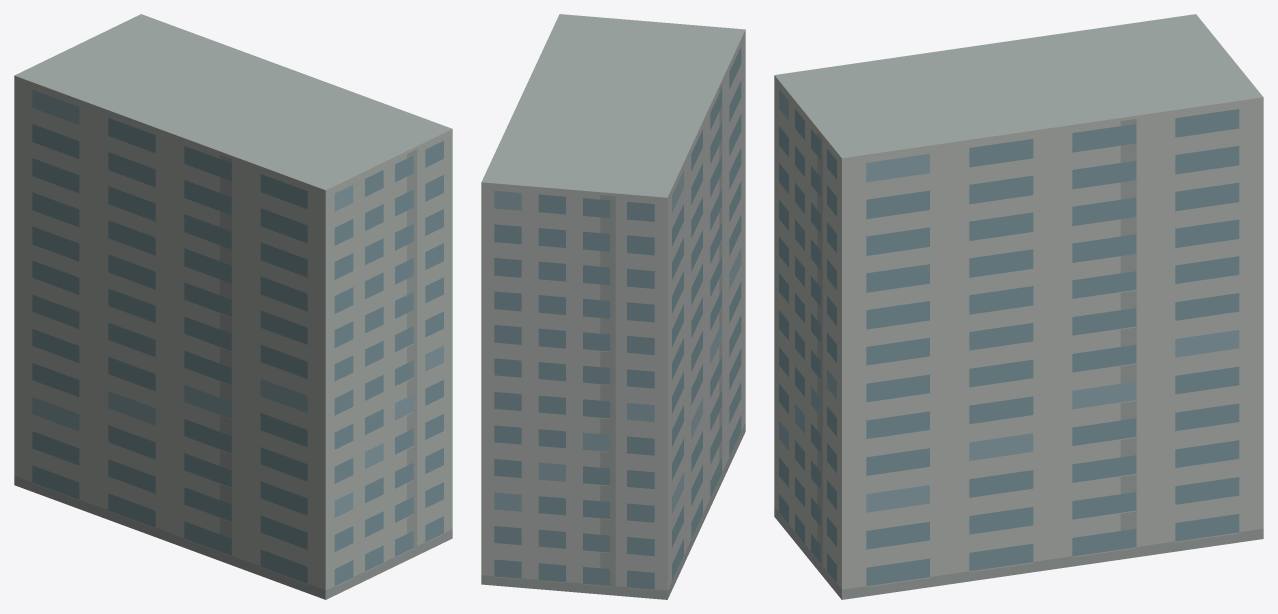
File: residential-8871932c-6e0a-4a34-b499-48d6ceedca8d.glb
3 renders of one model, left to right at view 1: azimuth 30°, elevation 25°; view 2: azimuth 150°, elevation 25°; view 3: azimuth 270°, elevation 25°, orthographic. The views are drawn at different scales.
Parts seen in each view (by area): view 1: residential-8871932c-6e0a-4a34-b499-48d6ceedca8d.tmp; view 2: residential-8871932c-6e0a-4a34-b499-48d6ceedca8d.tmp; view 3: residential-8871932c-6e0a-4a34-b499-48d6ceedca8d.tmp.
Part boxes in pixels (<box>): residential-8871932c-6e0a-4a34-b499-48d6ceedca8d.tmp: <box>14,14,452,599</box>; residential-8871932c-6e0a-4a34-b499-48d6ceedca8d.tmp: <box>481,14,745,599</box>; residential-8871932c-6e0a-4a34-b499-48d6ceedca8d.tmp: <box>774,14,1263,599</box>.
Size of the model in its own units: 23.83 by 34 by 34.14.
